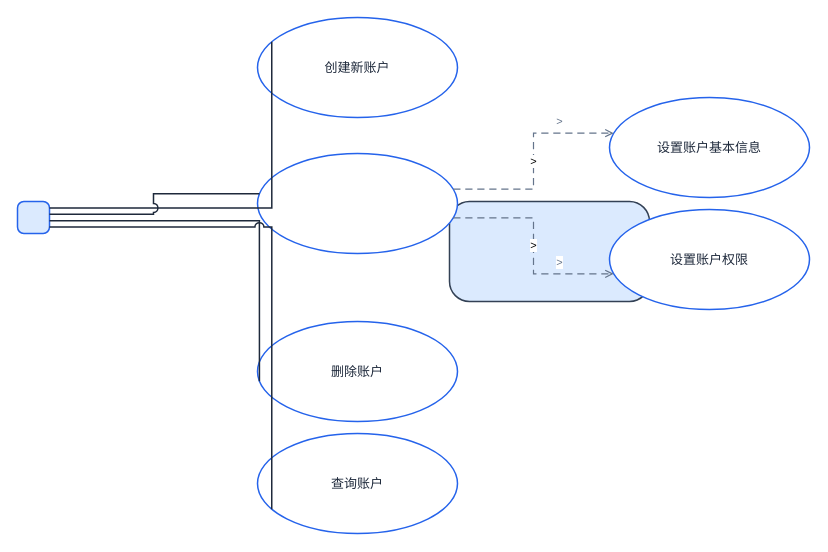
Image size: 828x552. Some labels were removed from this diagram. Each missing label, with the centre of its shape:
"系统管理员" belongs at (x=33, y=217).
"设置账户" belongs at (x=357, y=203).
"账号管理系统" belongs at (x=549, y=251).
